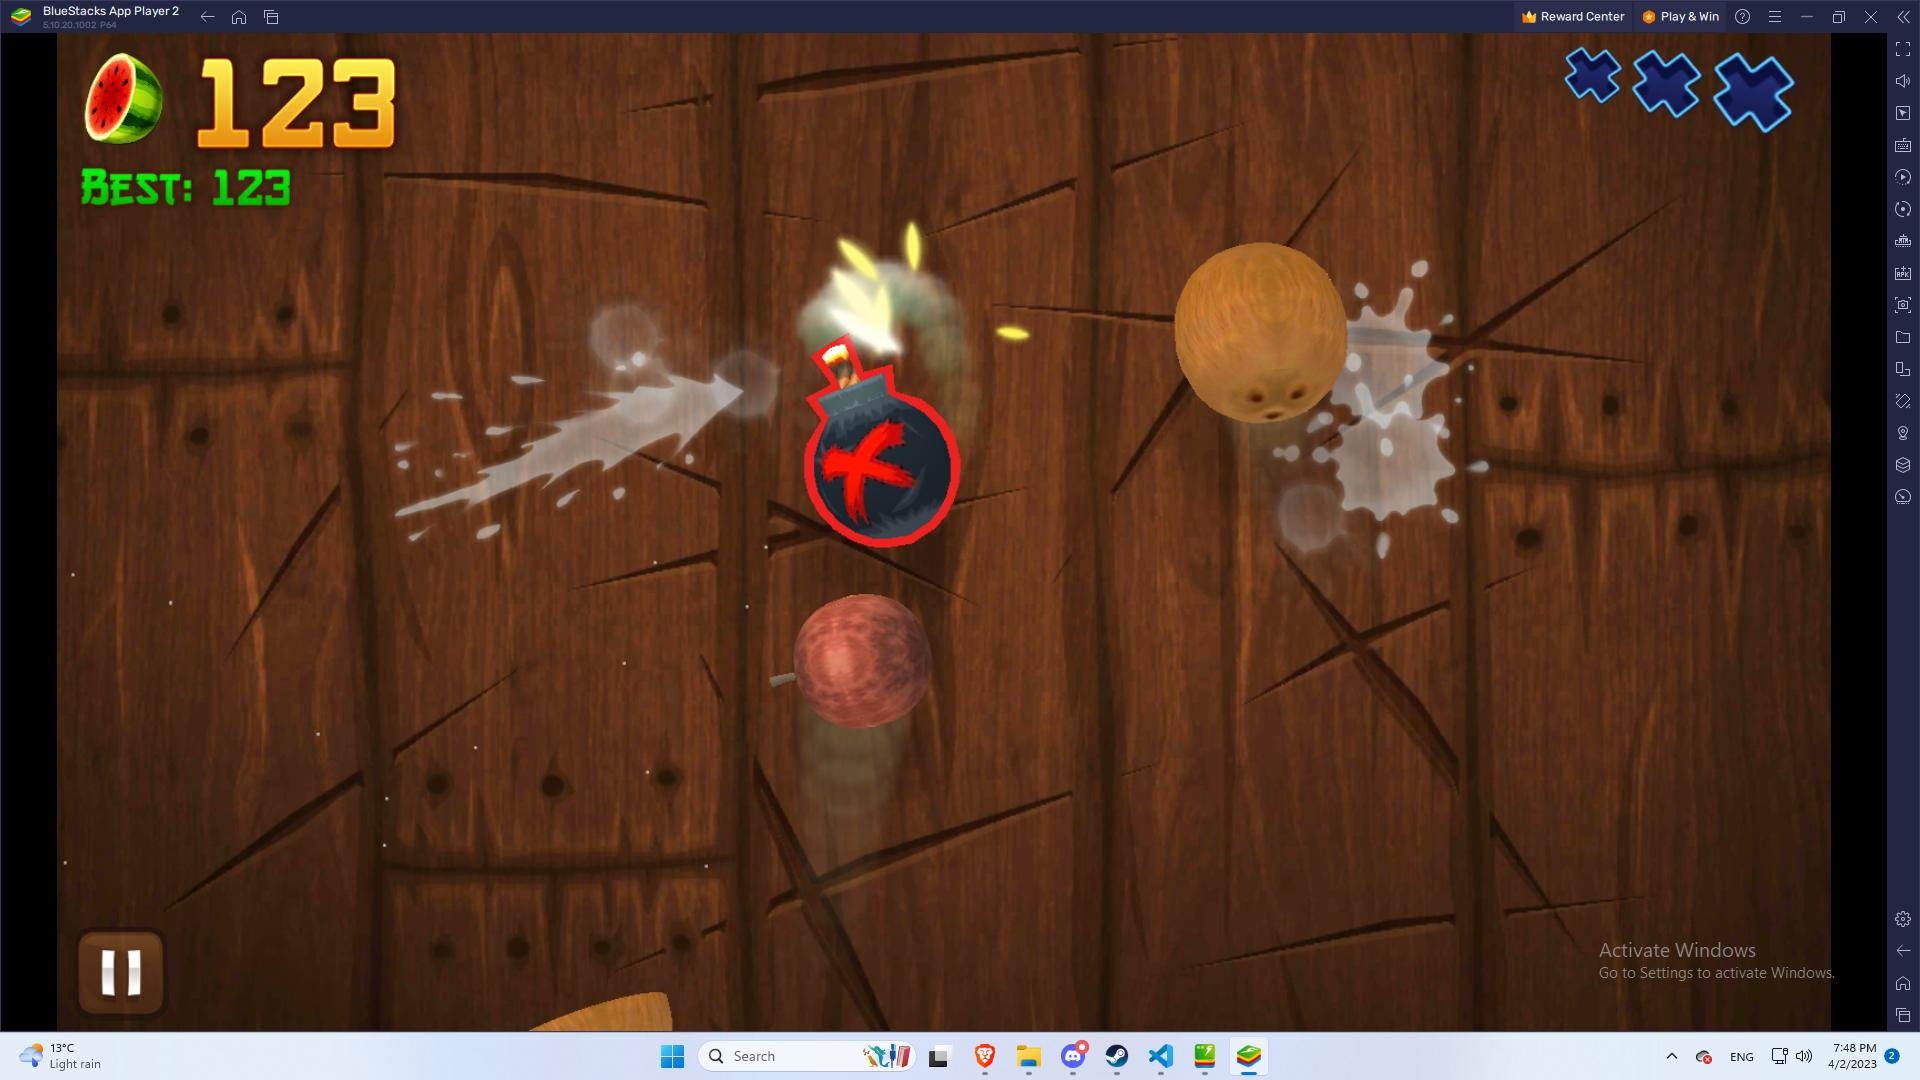bomb: (782, 320, 977, 572)
fruit: (1154, 222, 1374, 448), (765, 587, 952, 732)
